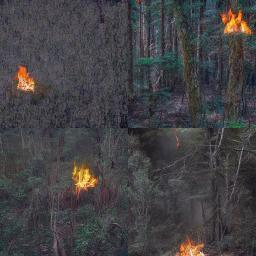Small fire: (67, 162, 100, 196), (161, 236, 217, 256), (221, 7, 254, 40), (13, 64, 38, 97)
